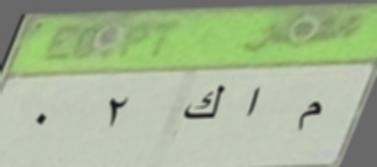2: (103, 88, 136, 136), (27, 101, 54, 136)
alif: (242, 82, 265, 124)
kaaf: (182, 78, 224, 132)
meem: (289, 91, 326, 136)
